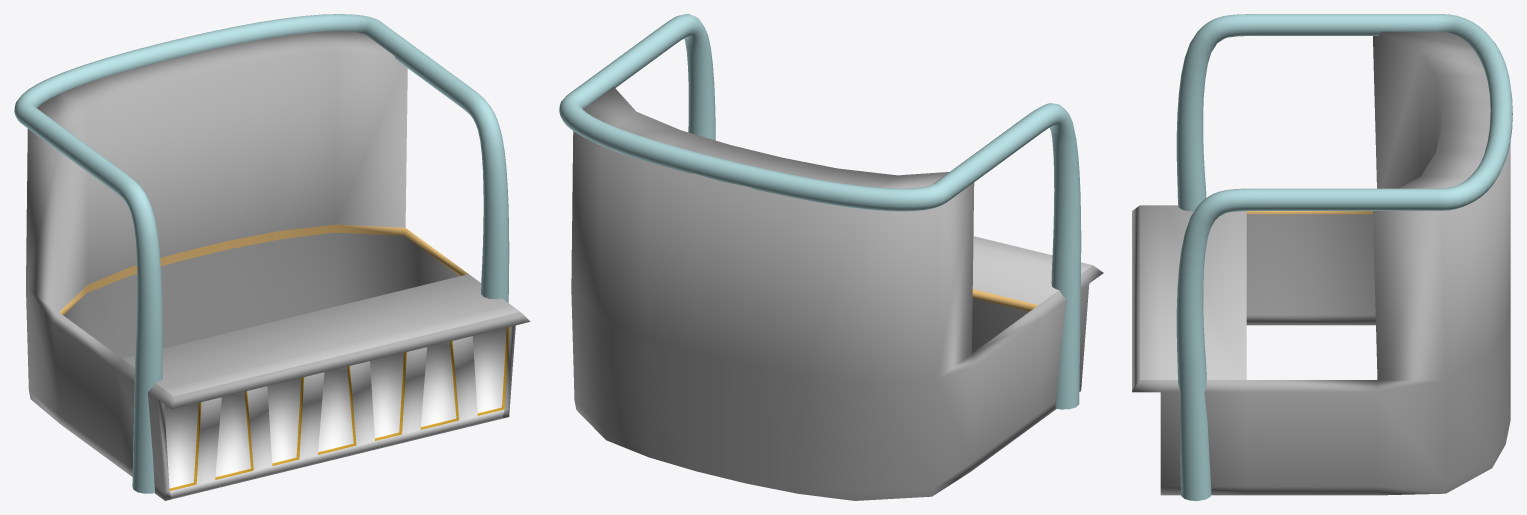
Rendered from JanitorDesk.fbx.
3 views of the same model, side by side, from view 1: azimuth 30°, elevation 25°; view 2: azimuth 150°, elevation 25°; view 3: azimuth 270°, elevation 25° (orthographic). The views are drawn at different scales.
Parts seen in each view (by area): view 1: JanitorDesk, JanitorDeskArmature; view 2: JanitorDesk, JanitorDeskArmature; view 3: JanitorDesk, JanitorDeskArmature.
Boxes of the visible parts, box(x1,y1,x2,y2) form: JanitorDesk: box(26, 31, 530, 500); JanitorDeskArmature: box(14, 14, 509, 493); JanitorDesk: box(571, 86, 1103, 500); JanitorDeskArmature: box(559, 14, 1081, 409); JanitorDesk: box(1132, 31, 1510, 495); JanitorDeskArmature: box(1176, 14, 1512, 500).
Bounding box in the file's own units: 9.02 × 7.76 × 6.89.
